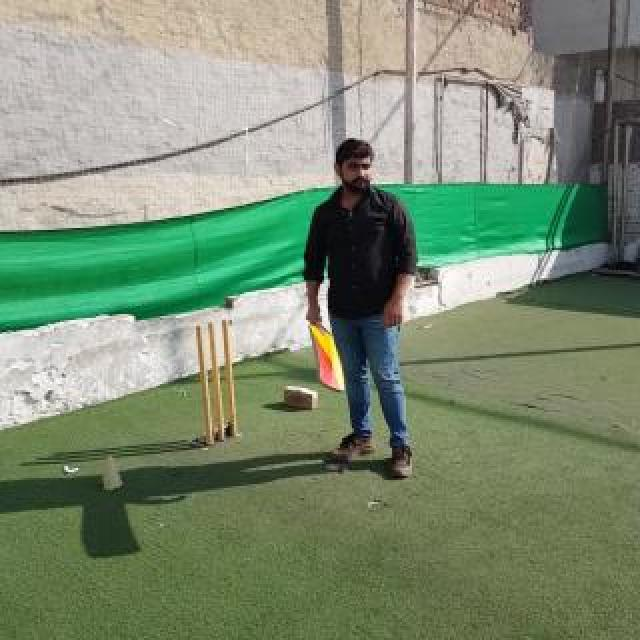bat: (309, 314, 347, 392)
